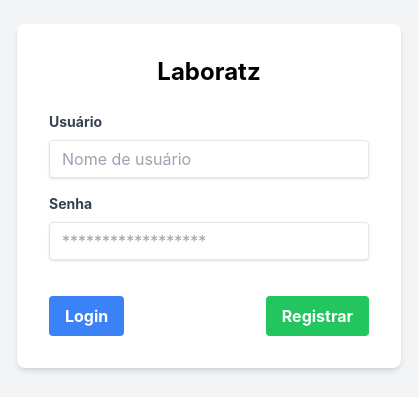
Test: AuthPage › should display an error message on failed login
Simula o usuário preenchendo o formulário
Step 1. Type "user" into the field labelled "Usuário" → coordinates (209, 159), box [49,140,369,178]
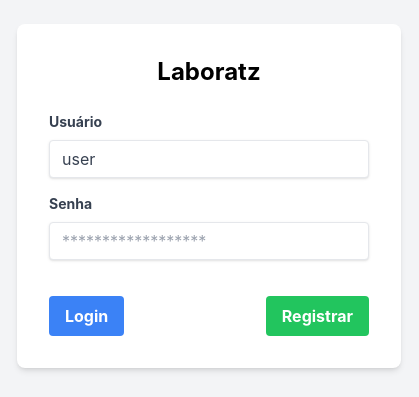
Step 2. Type "wrong_pass" into the password field labelled "Senha" → coordinates (209, 241), box [49,222,369,260]
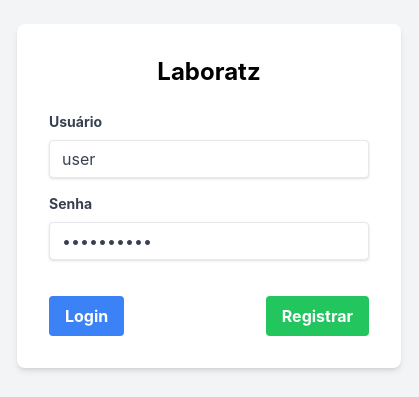
Simula o clique no botão
Step 3. Click the button "Login" → coordinates (87, 316), box [49,296,124,336]
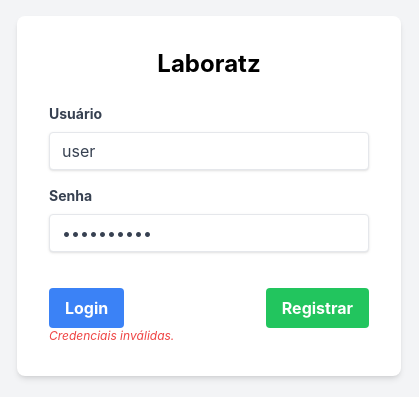
Check: the text "Credenciais inválidas." is shown, box [49,328,174,343]
